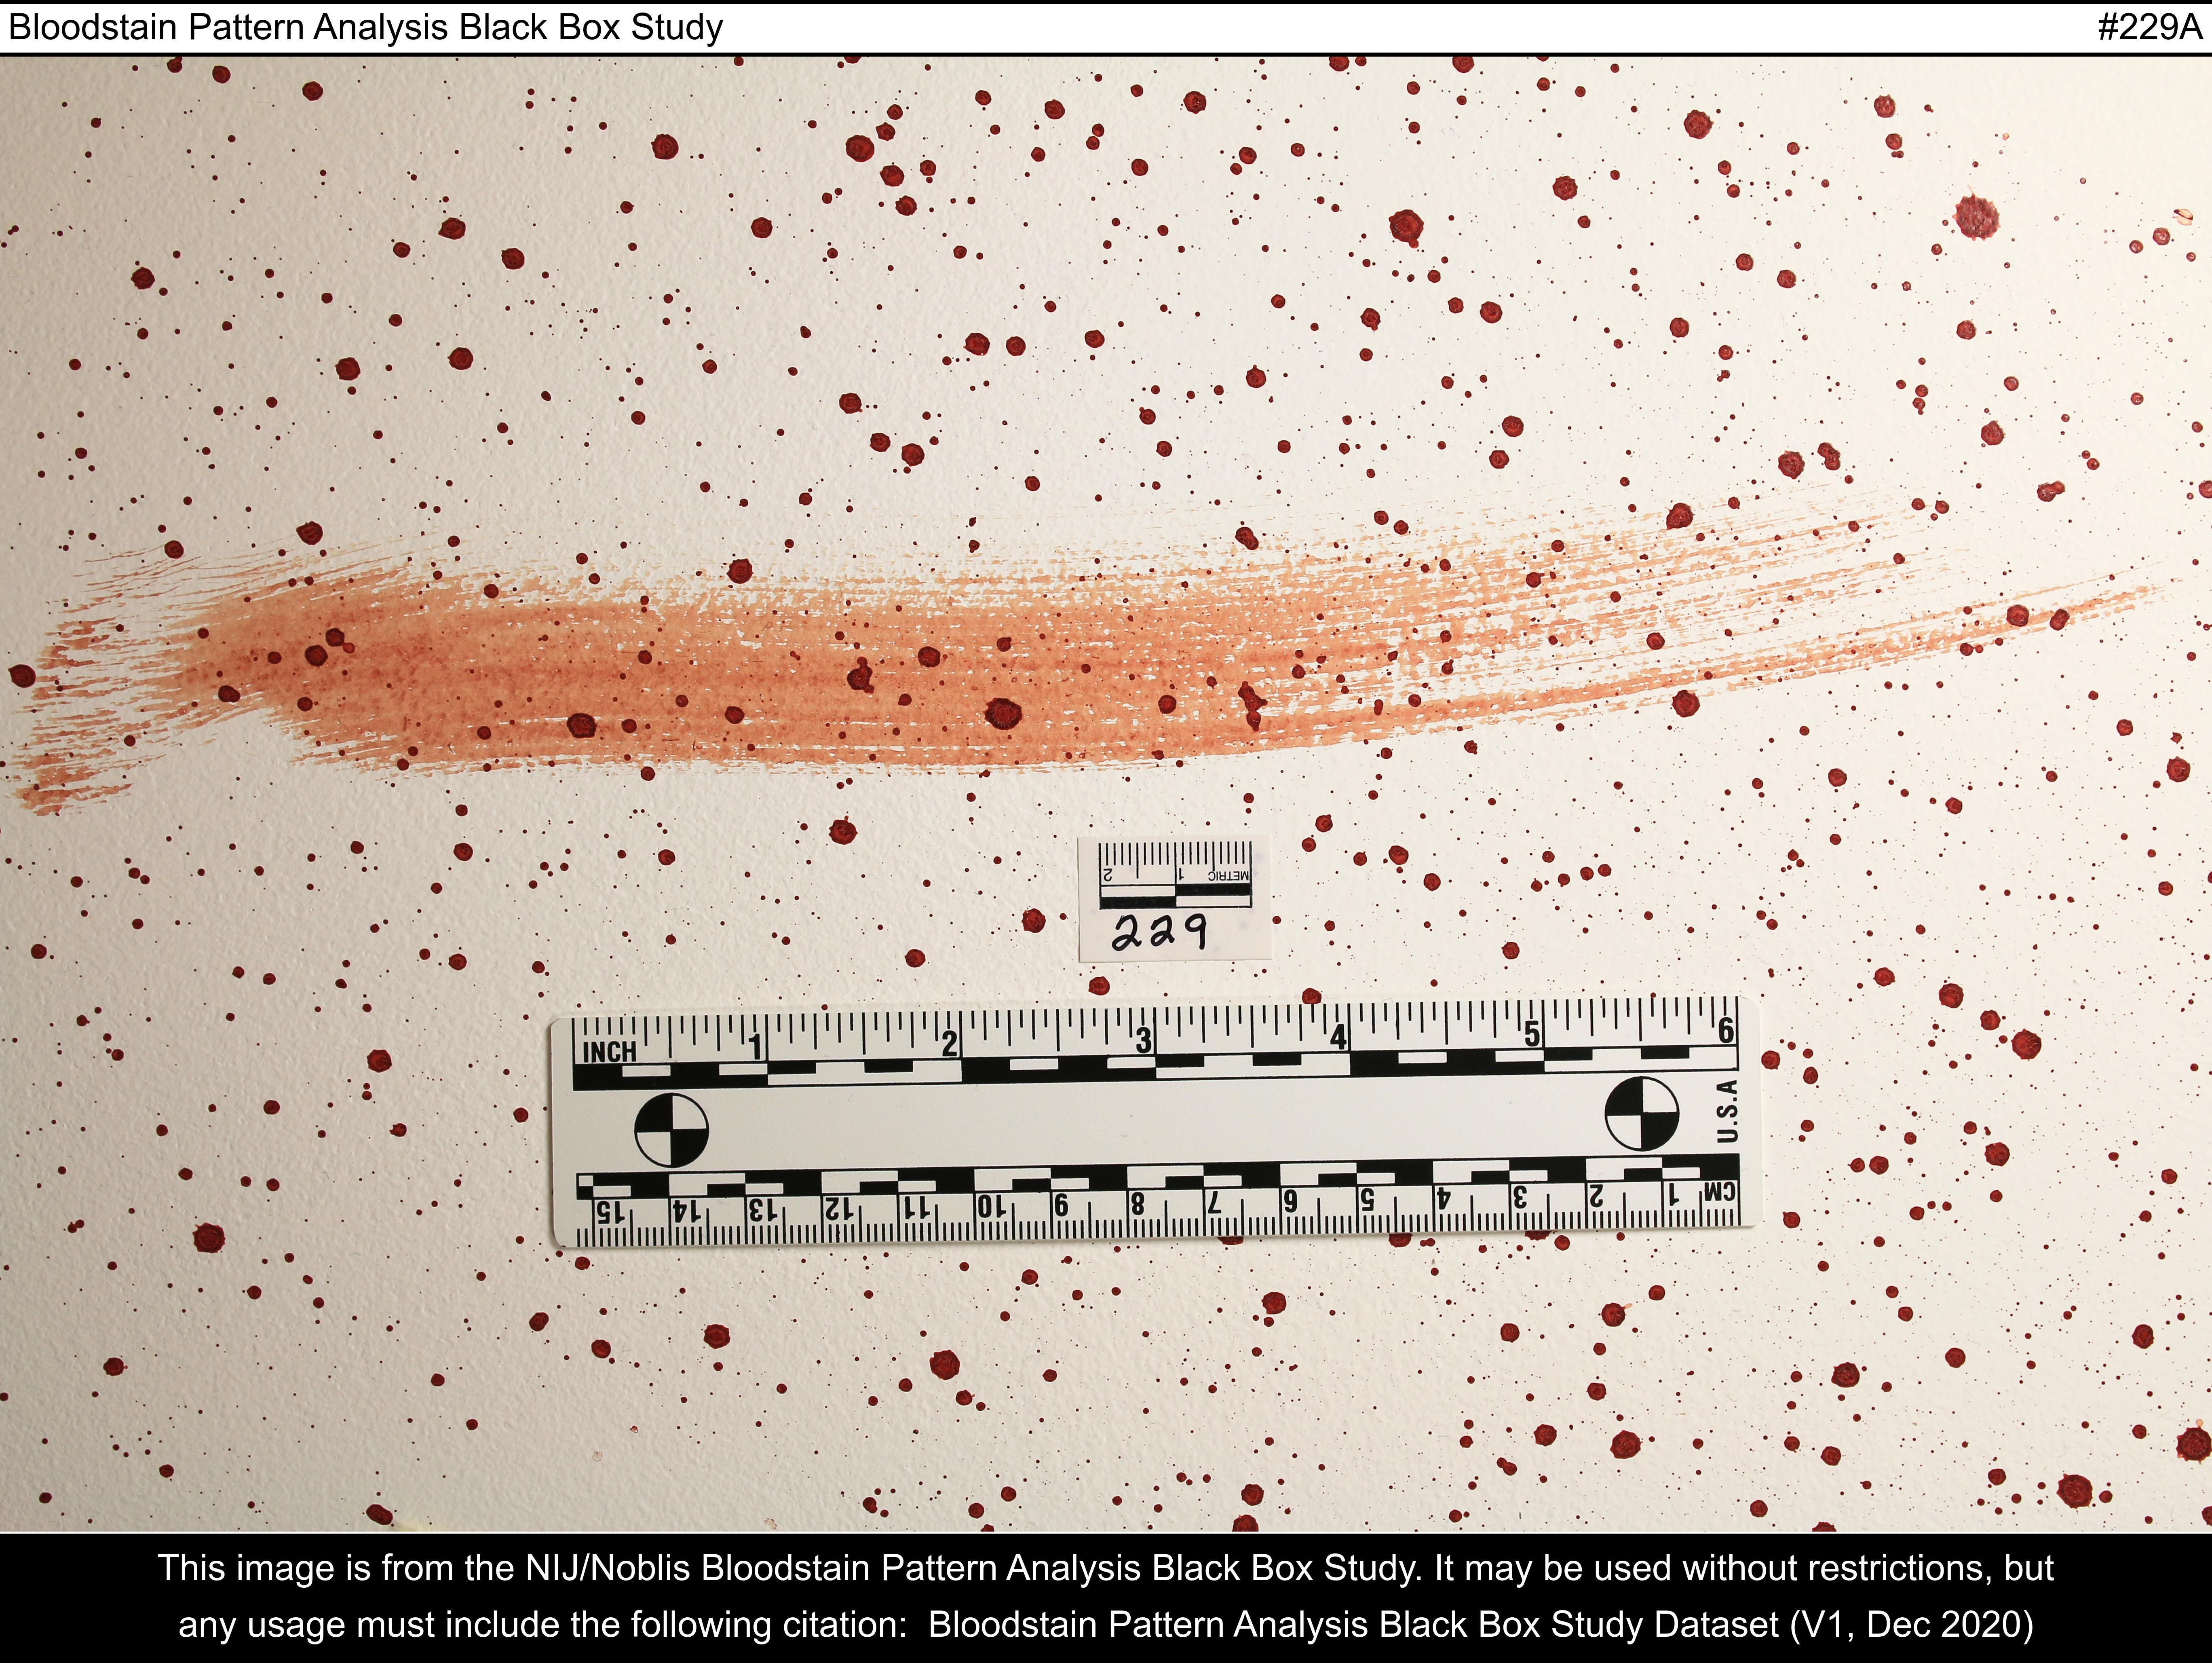Transfer: (56, 562, 1905, 767)
